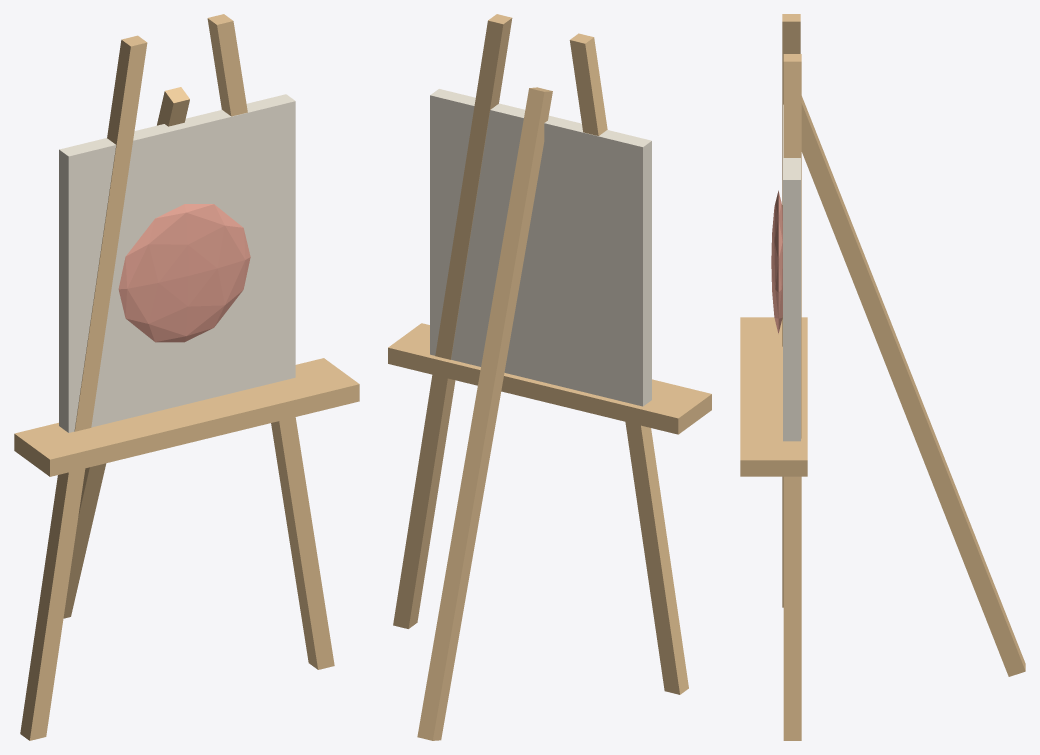
The model's file is cozy-home-interiors-easel-5542bf08.glb.
3 views of the same model, side by side, from view 1: azimuth 30°, elevation 25°; view 2: azimuth 150°, elevation 25°; view 3: azimuth 270°, elevation 25° (orthographic). The views are drawn at different scales.
Visible parts, largest first — view 1: easel; view 2: easel; view 3: easel.
Part boxes in pixels (box(x1,y1,x2,y2)): easel: box(14, 14, 359, 740); easel: box(388, 14, 711, 740); easel: box(740, 14, 1025, 740).
Size of the model in its own units: 0.7499 by 1.56 by 0.6338.
